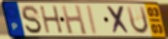H: (60, 4, 89, 36), (38, 5, 64, 35)
I: (86, 4, 99, 36)
S: (20, 4, 44, 35)
U: (125, 5, 150, 35)
X: (105, 5, 132, 35)
